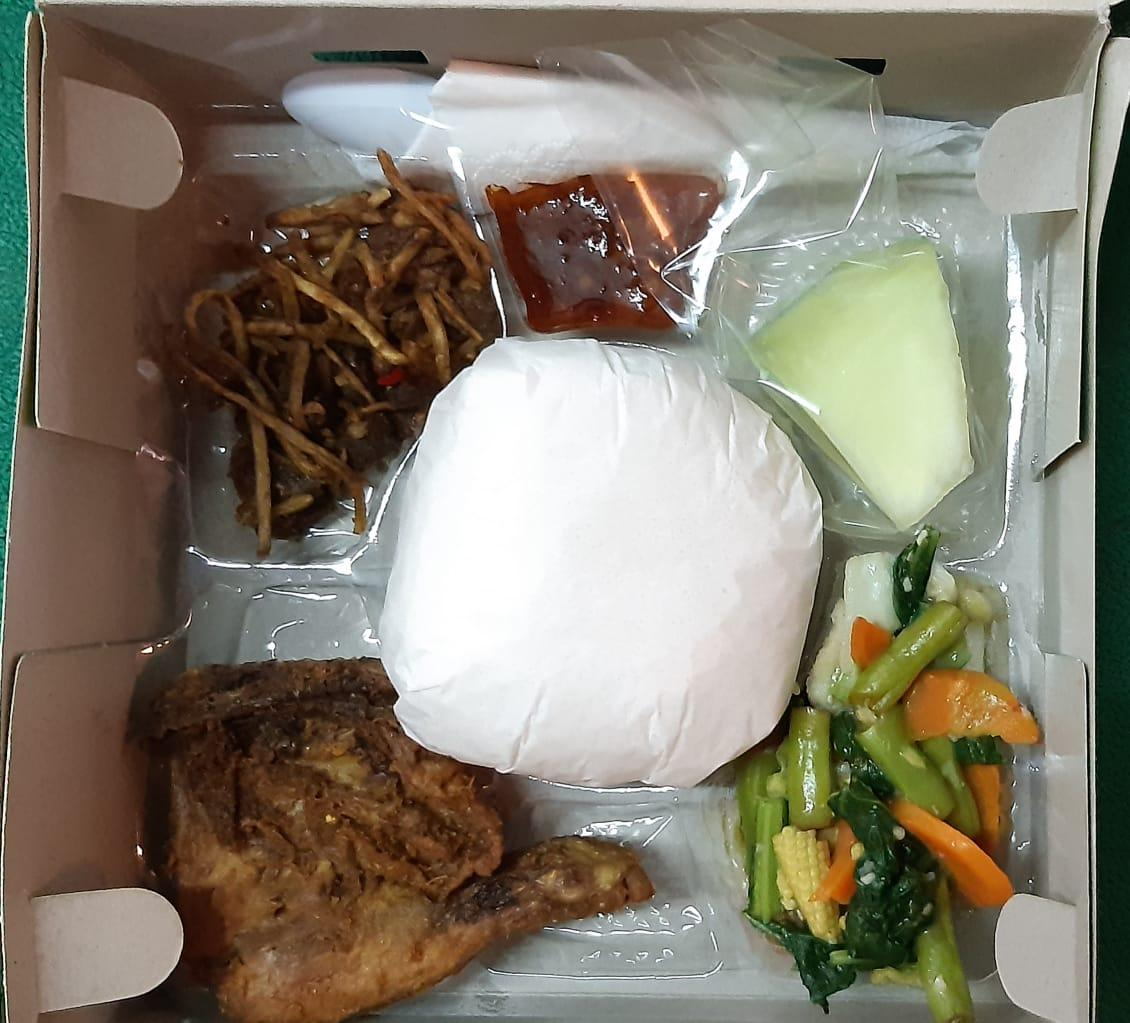buah_sayur_lainnya: (793, 313, 936, 406)
buah_sayur_vitA: (780, 623, 999, 941), (504, 199, 607, 302)
daging: (203, 781, 434, 973)
makanan_berpati: (468, 398, 725, 711)
produk_susu: (246, 234, 400, 450)
